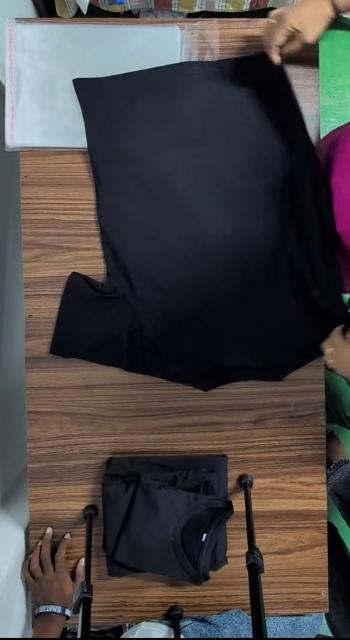new-garment: (51, 55, 345, 390)
